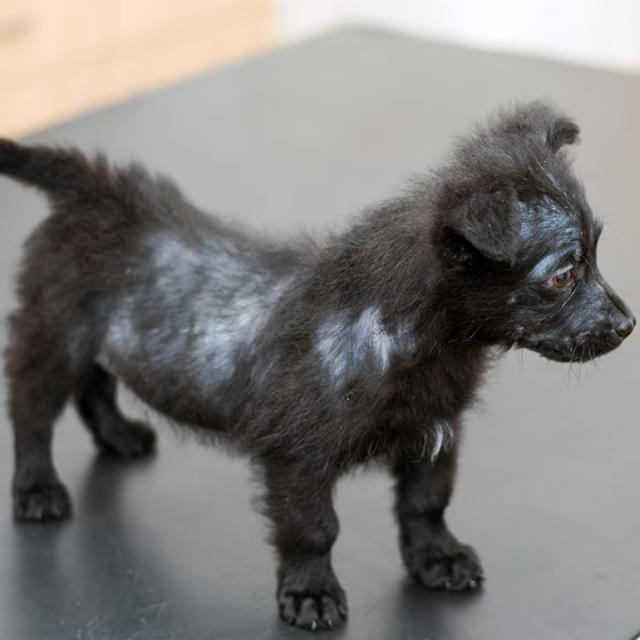mange: (72, 223, 489, 463)
